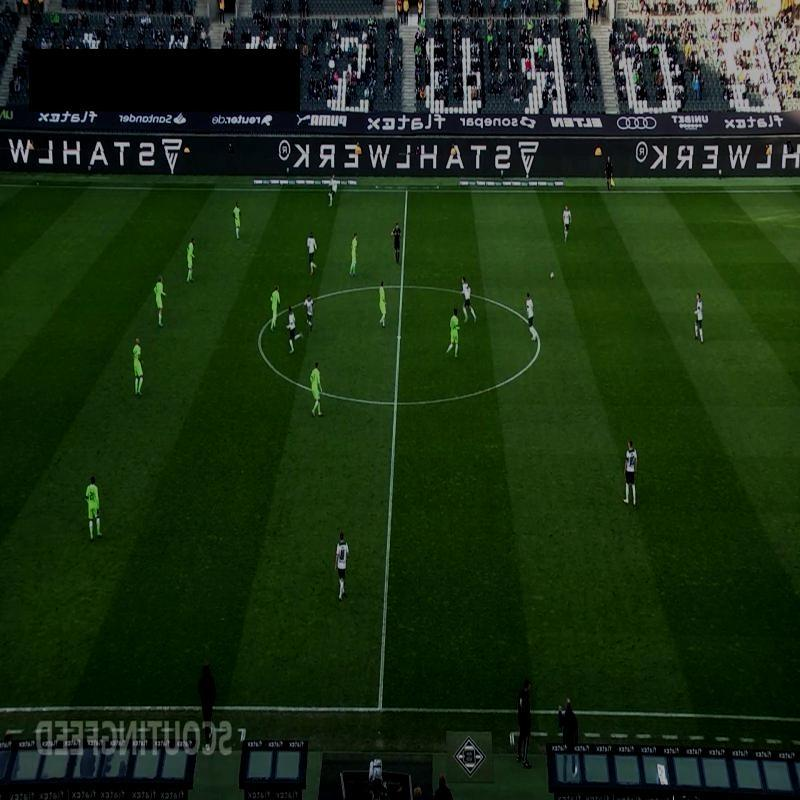13: (400, 182, 414, 196)
14: (397, 278, 411, 292)
15: (389, 395, 403, 409)
16: (372, 699, 388, 718)
c: (252, 332, 266, 352), (532, 338, 546, 352)
